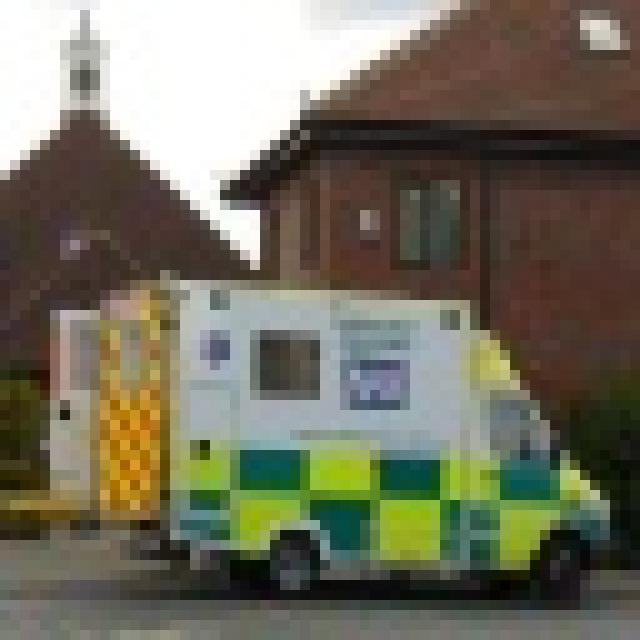Ambulance: (40, 260, 610, 600)
